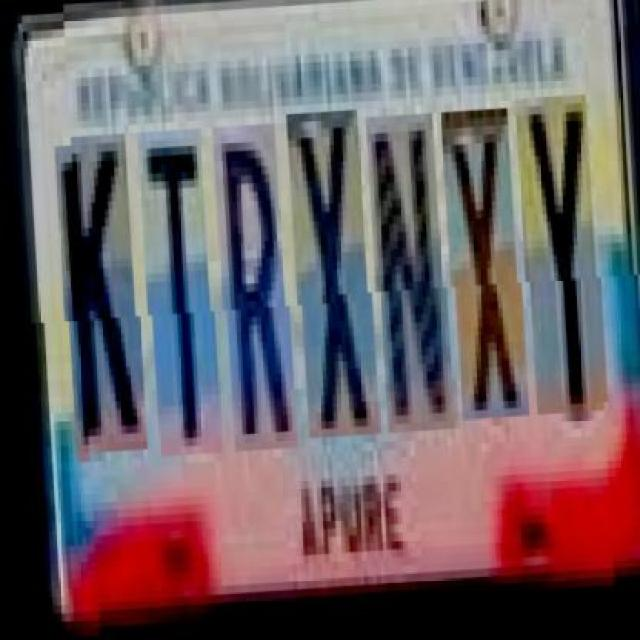k: (57, 134, 141, 454)
n: (368, 119, 450, 438)
r: (214, 127, 292, 455)
t: (138, 132, 217, 459)
x: (288, 115, 374, 442), (442, 116, 524, 427)
y: (518, 102, 602, 422)
